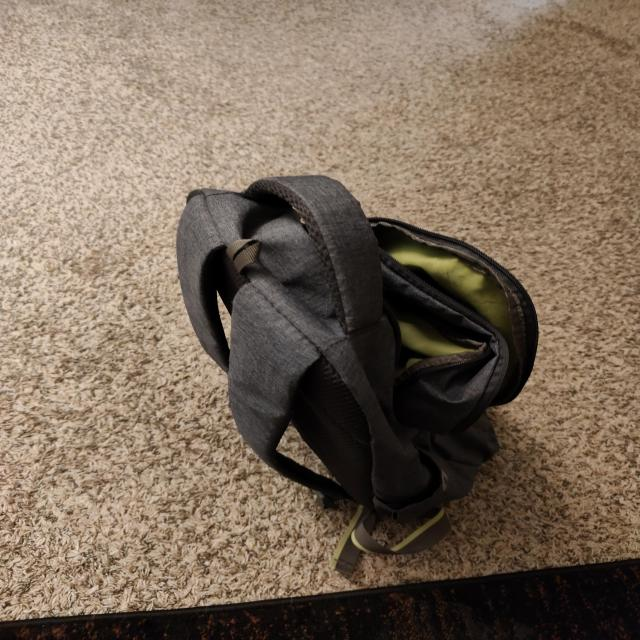bag: (190, 189, 545, 515)
